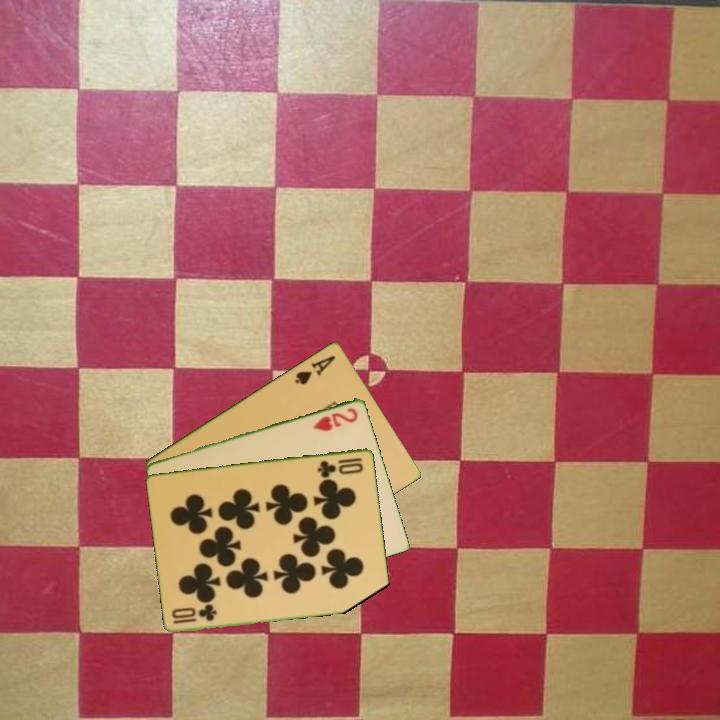10c: (314, 454, 366, 479), (170, 602, 220, 626)
2h: (309, 404, 361, 434)
As: (291, 351, 338, 387)
